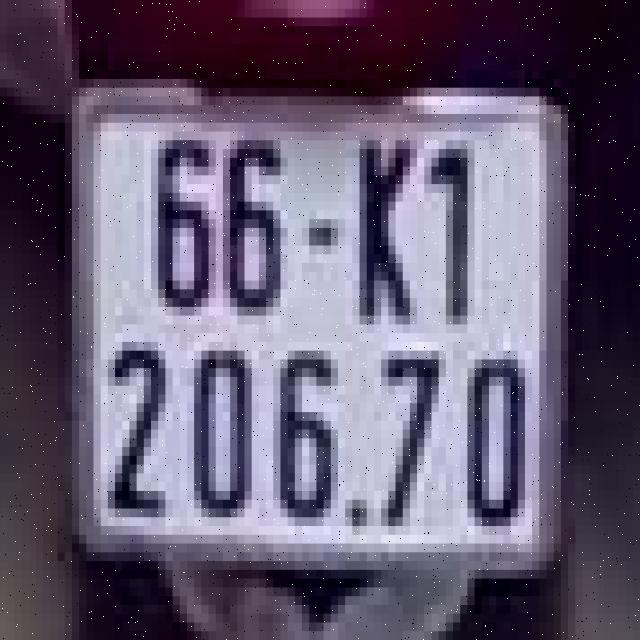0: (180, 338, 252, 522), (457, 355, 514, 530)
1: (424, 127, 489, 329)
2: (100, 338, 180, 530)
6: (212, 118, 291, 320), (137, 123, 216, 324), (270, 333, 342, 535)
7: (367, 342, 446, 526)
K: (345, 136, 424, 337)
